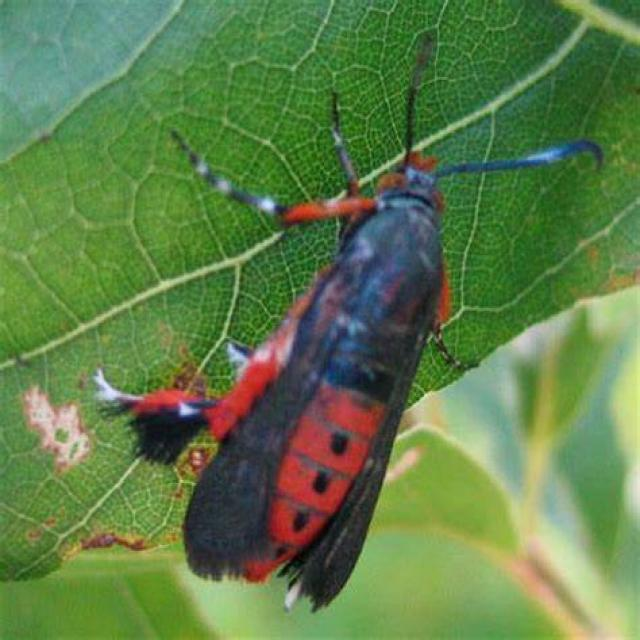squash_vine_borer: (84, 14, 590, 609)
